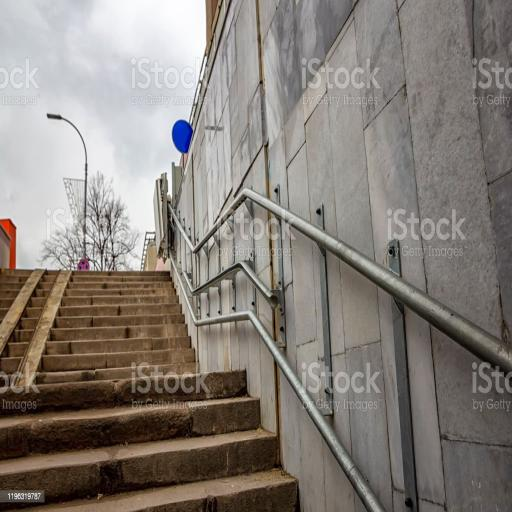ramp: (1, 265, 71, 388)
stairs: (0, 372, 300, 512), (40, 262, 201, 383)
